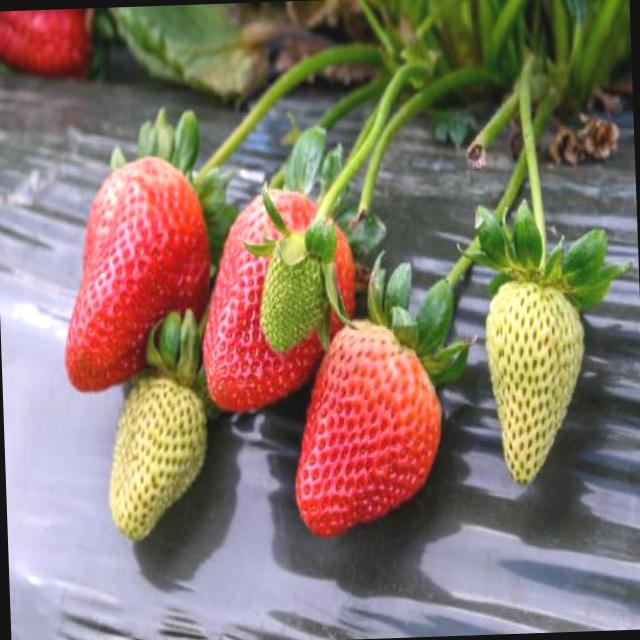Strawberry: (198, 180, 358, 413), (59, 154, 213, 390), (290, 312, 445, 534), (484, 268, 590, 488), (107, 375, 208, 535), (258, 230, 338, 346), (0, 7, 96, 75)
